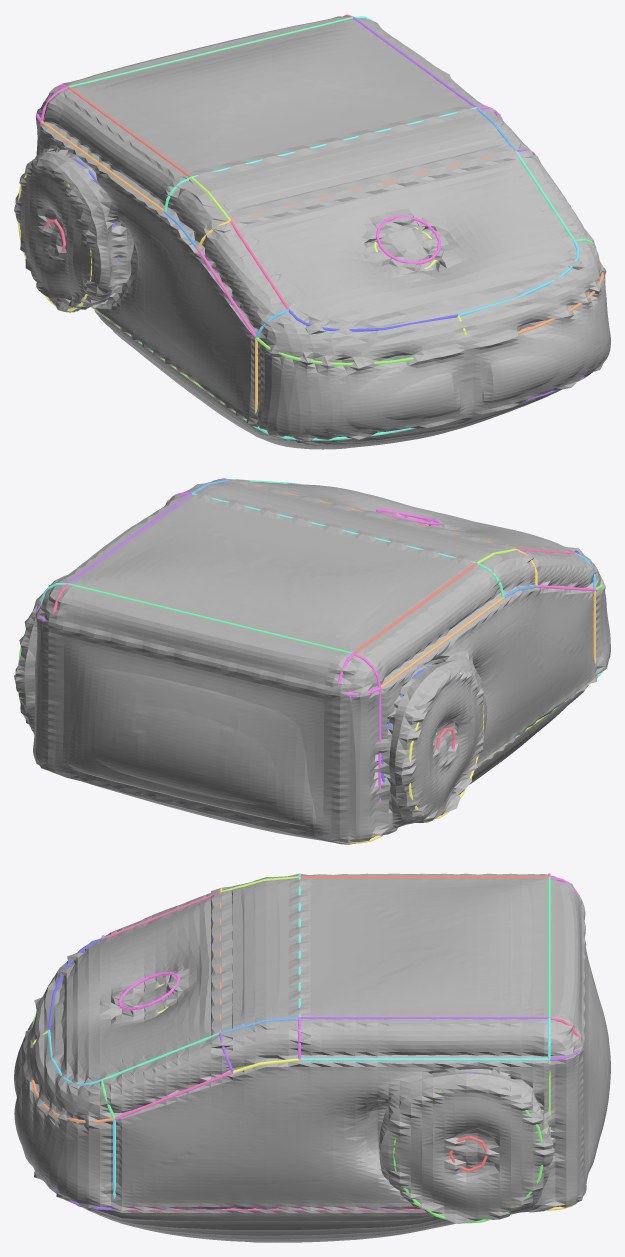
Rendered from onshape_vacuum.gltf.
3 renders of one model, top to bottom at view 1: azimuth 30°, elevation 25°; view 2: azimuth 150°, elevation 25°; view 3: azimuth 270°, elevation 25°, orthographic.
Bounding box in the file's own units: 0.6356 × 0.3975 × 0.8061.
